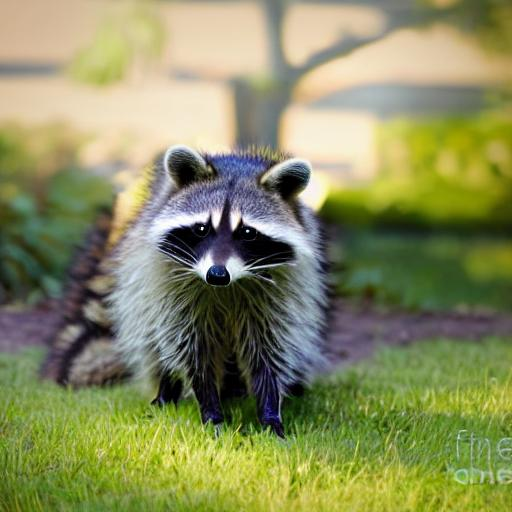raccoon: (44, 144, 347, 401)
